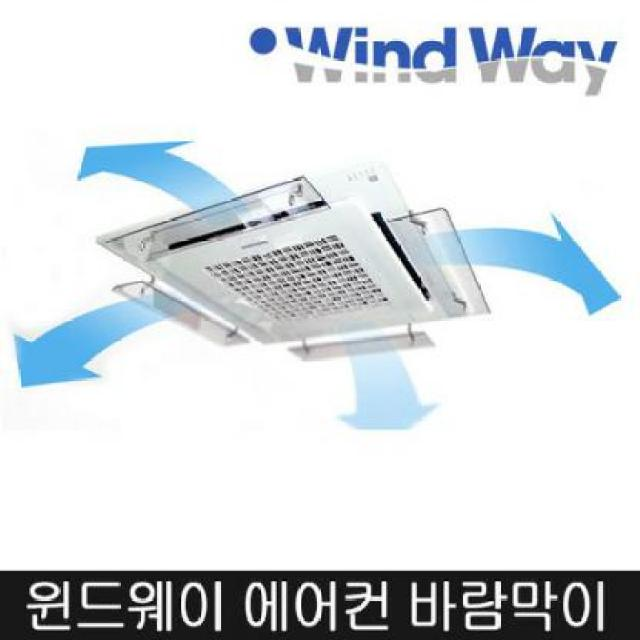ac: (84, 162, 492, 359)
